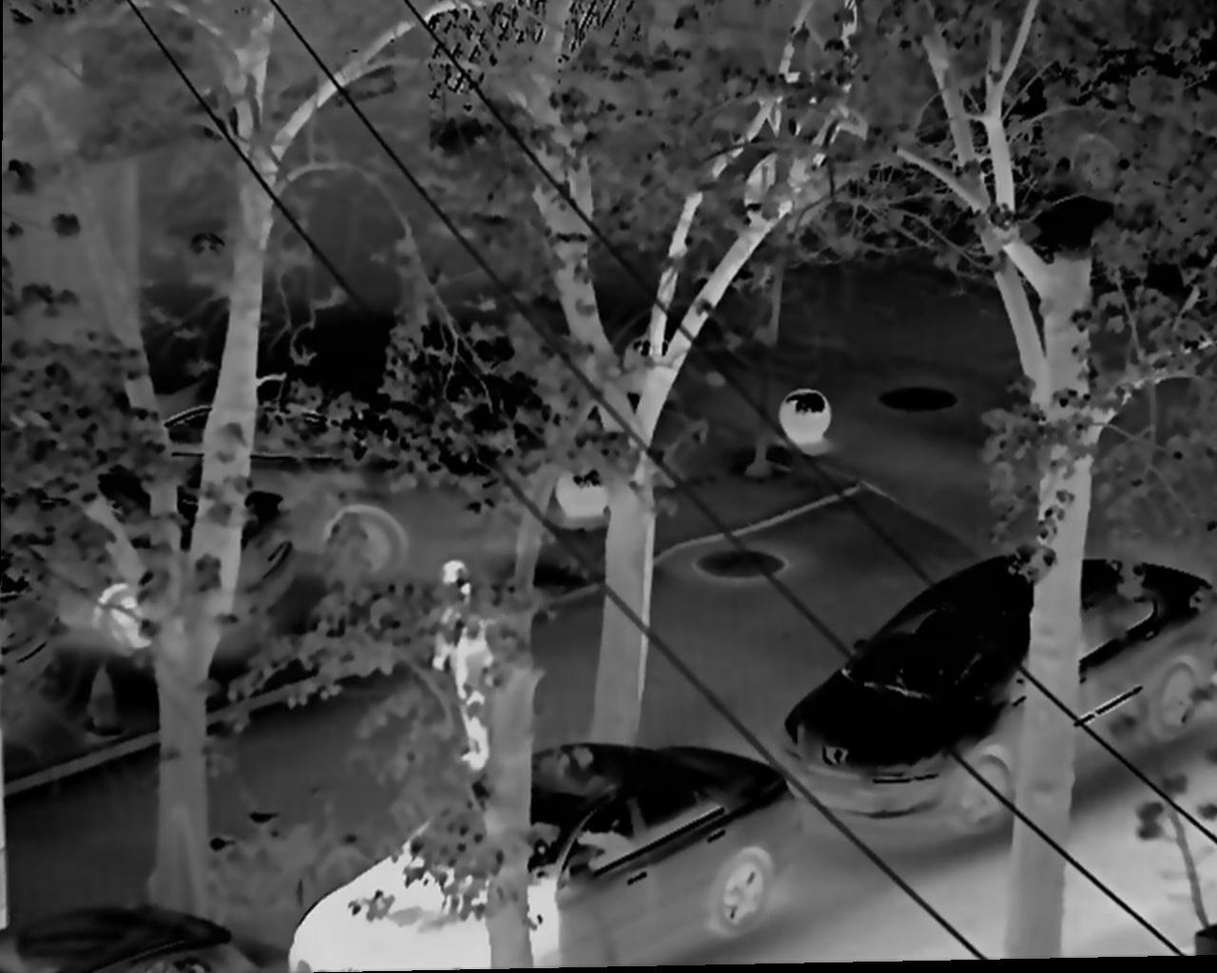person: (429, 553, 502, 773)
